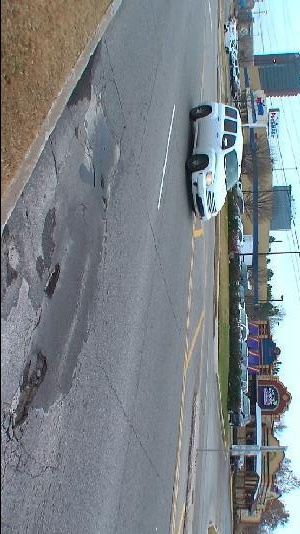pothole: (8, 350, 49, 430), (45, 261, 64, 298), (100, 194, 112, 211), (98, 172, 107, 189)
